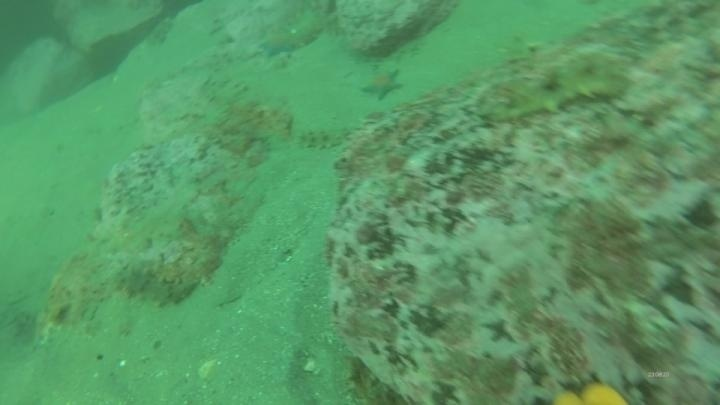holothurian: (485, 52, 631, 125), (111, 263, 203, 311), (293, 122, 356, 154)
starfish: (357, 65, 405, 103), (255, 28, 303, 60)
